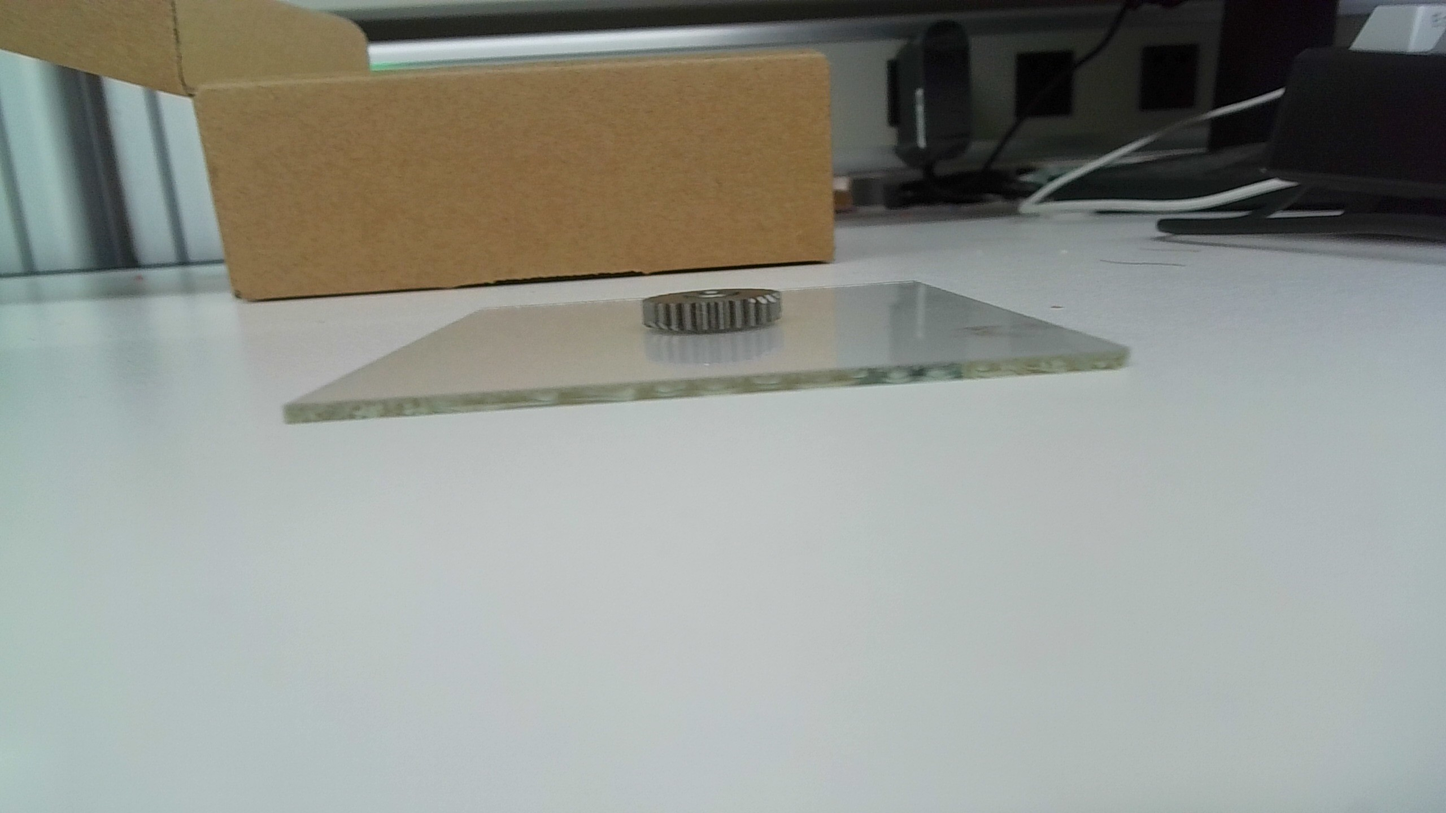gear: (641, 288, 785, 334)
